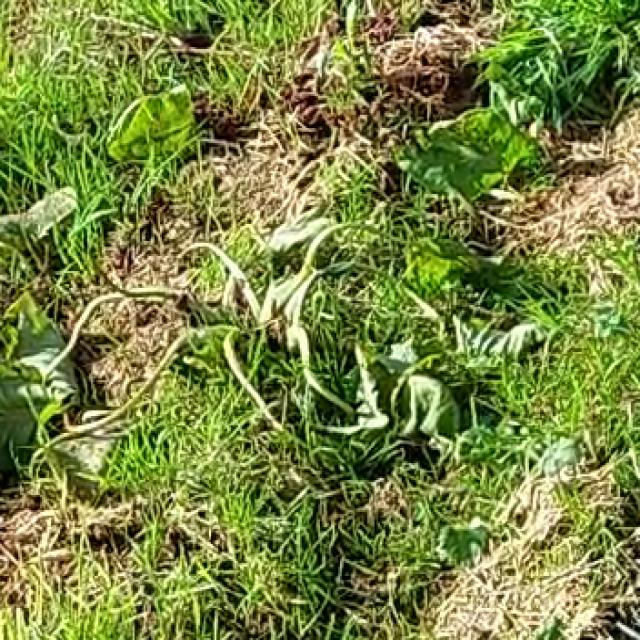organic waste: (11, 62, 547, 482)
